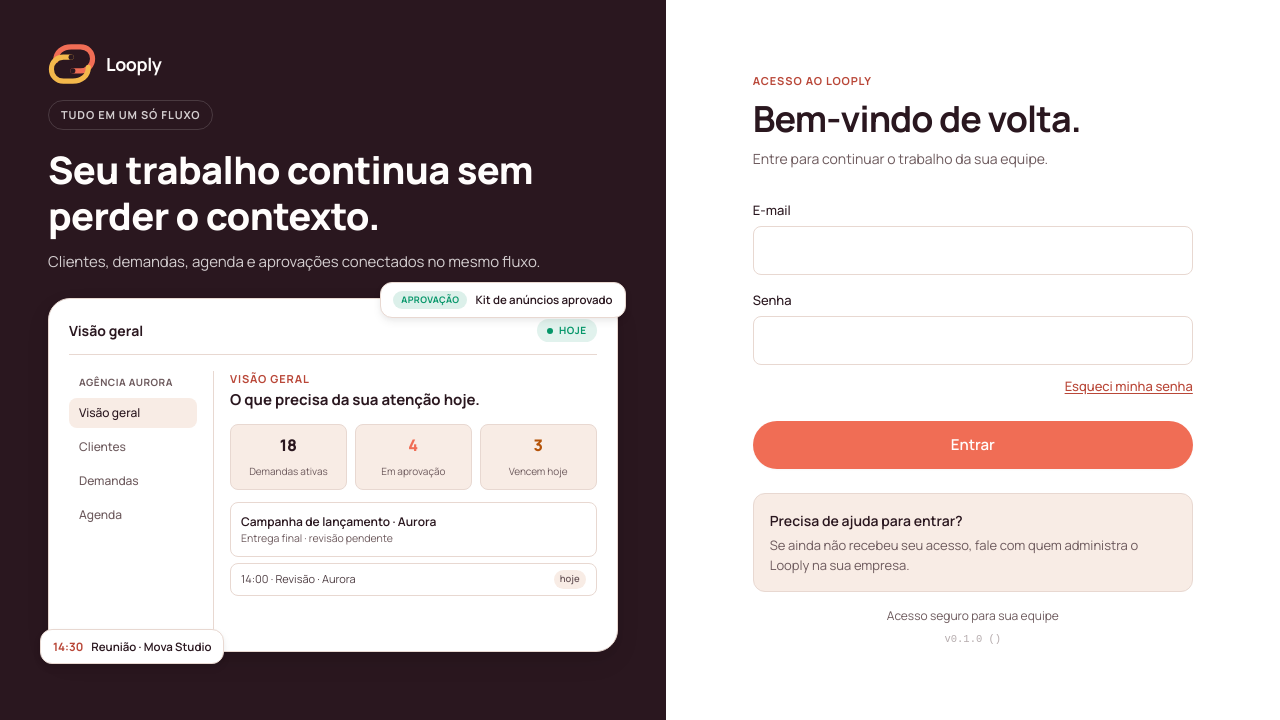
Scenario: AuthShell — Final Figma Visual Contract › switches to Clientes view with canonical client rows and footer
Click the button "Clientes" at (133, 447), box [69,432,197,462]
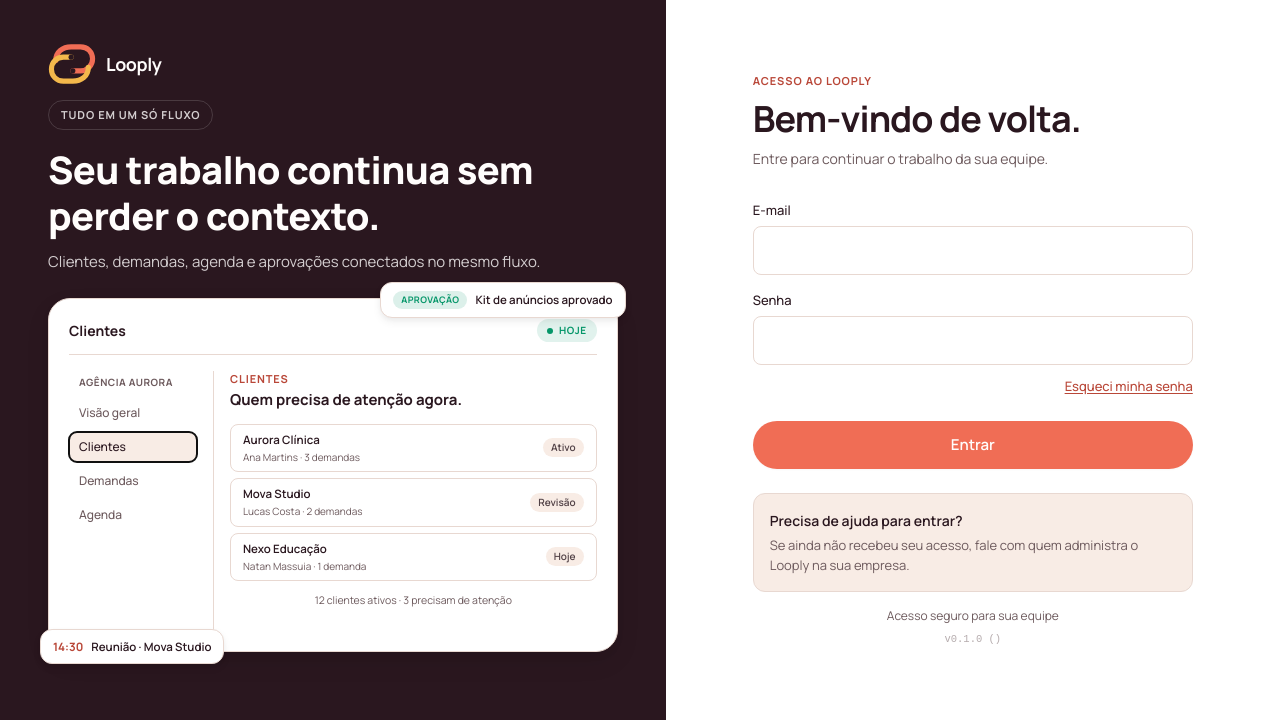
expect the text "Quem precisa de atenção agora." is shown: met, box [230,389,462,410]
expect the text "Aurora Clínica" is shown: met, box [243,432,320,446]
expect the text "Ana Martins · 3 demandas" is shown: met, box [243,450,360,464]
